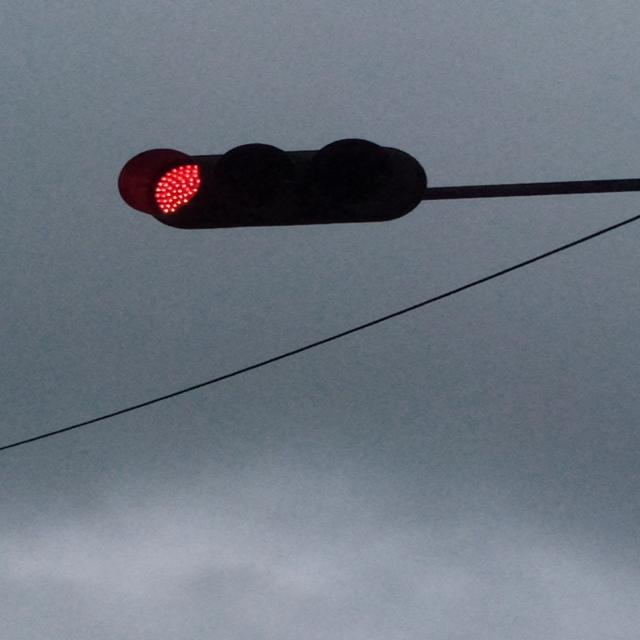red light: (125, 142, 422, 228)
